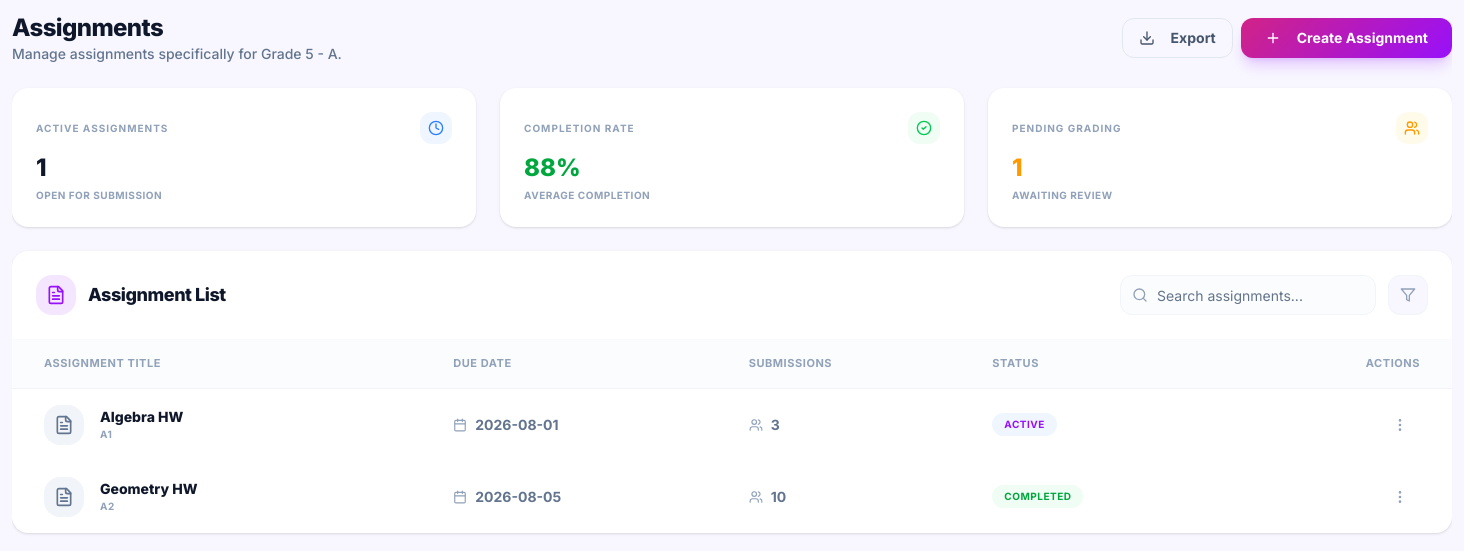
it: ClassAssignmentsTab › filters the list via the search box
Type "algebra" into the field with placeholder "Search assignments...".
click(1248, 295); type("algebra")  # box [1120,275,1376,315]
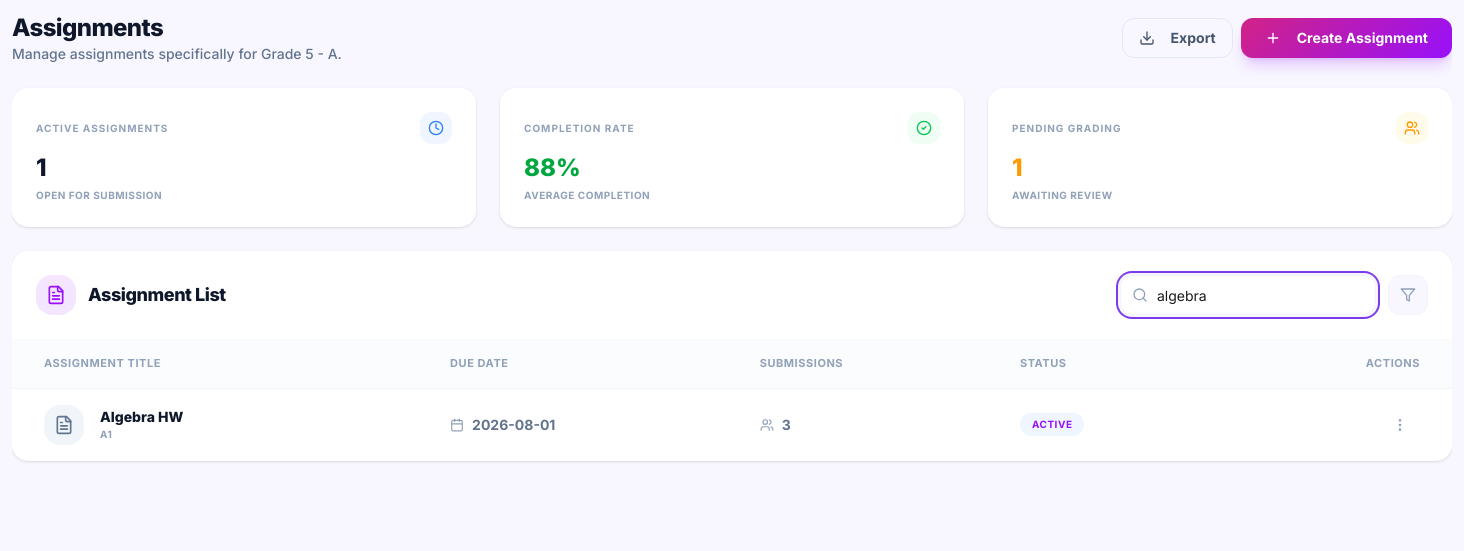
Check: the text "Algebra HW" is shown, box [100,407,183,427]
Check: the text "Geometry HW" is gone
